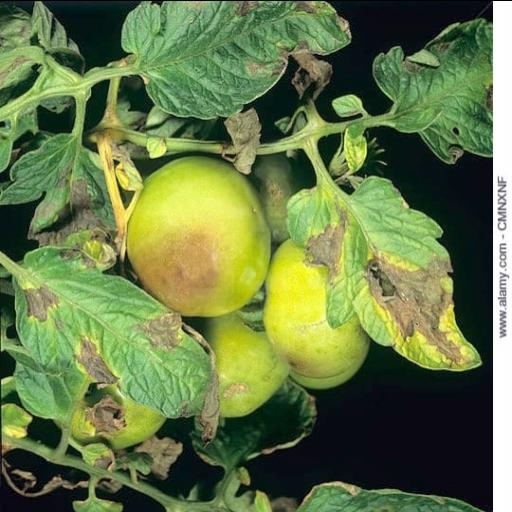Early Blight: (11, 242, 221, 442), (284, 175, 482, 371)
